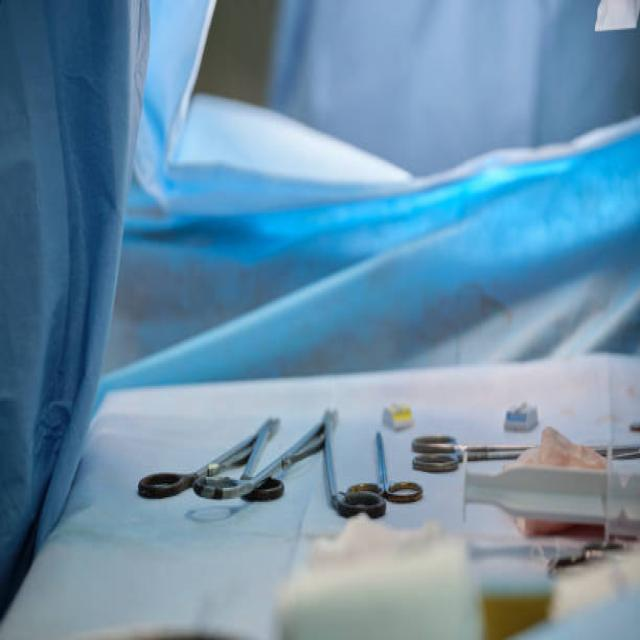tools_table: (43, 349, 640, 640)
